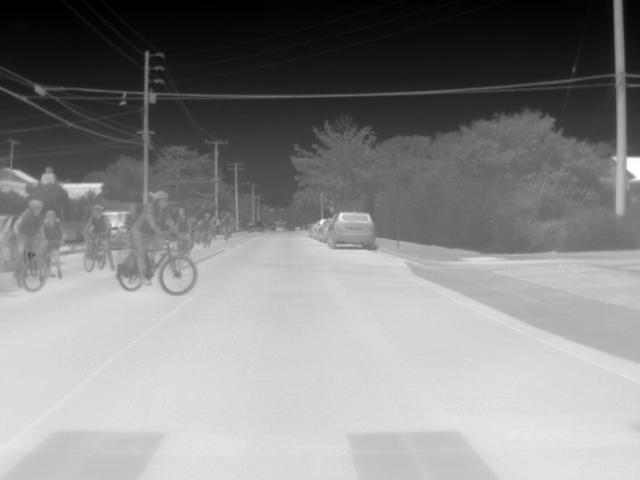car: (325, 209, 377, 249), (99, 209, 128, 235), (308, 218, 331, 237), (318, 220, 333, 241), (245, 220, 265, 234)
person: (130, 190, 178, 280), (16, 195, 44, 274), (80, 202, 116, 258), (46, 206, 66, 262), (174, 206, 192, 239), (196, 212, 213, 242)
